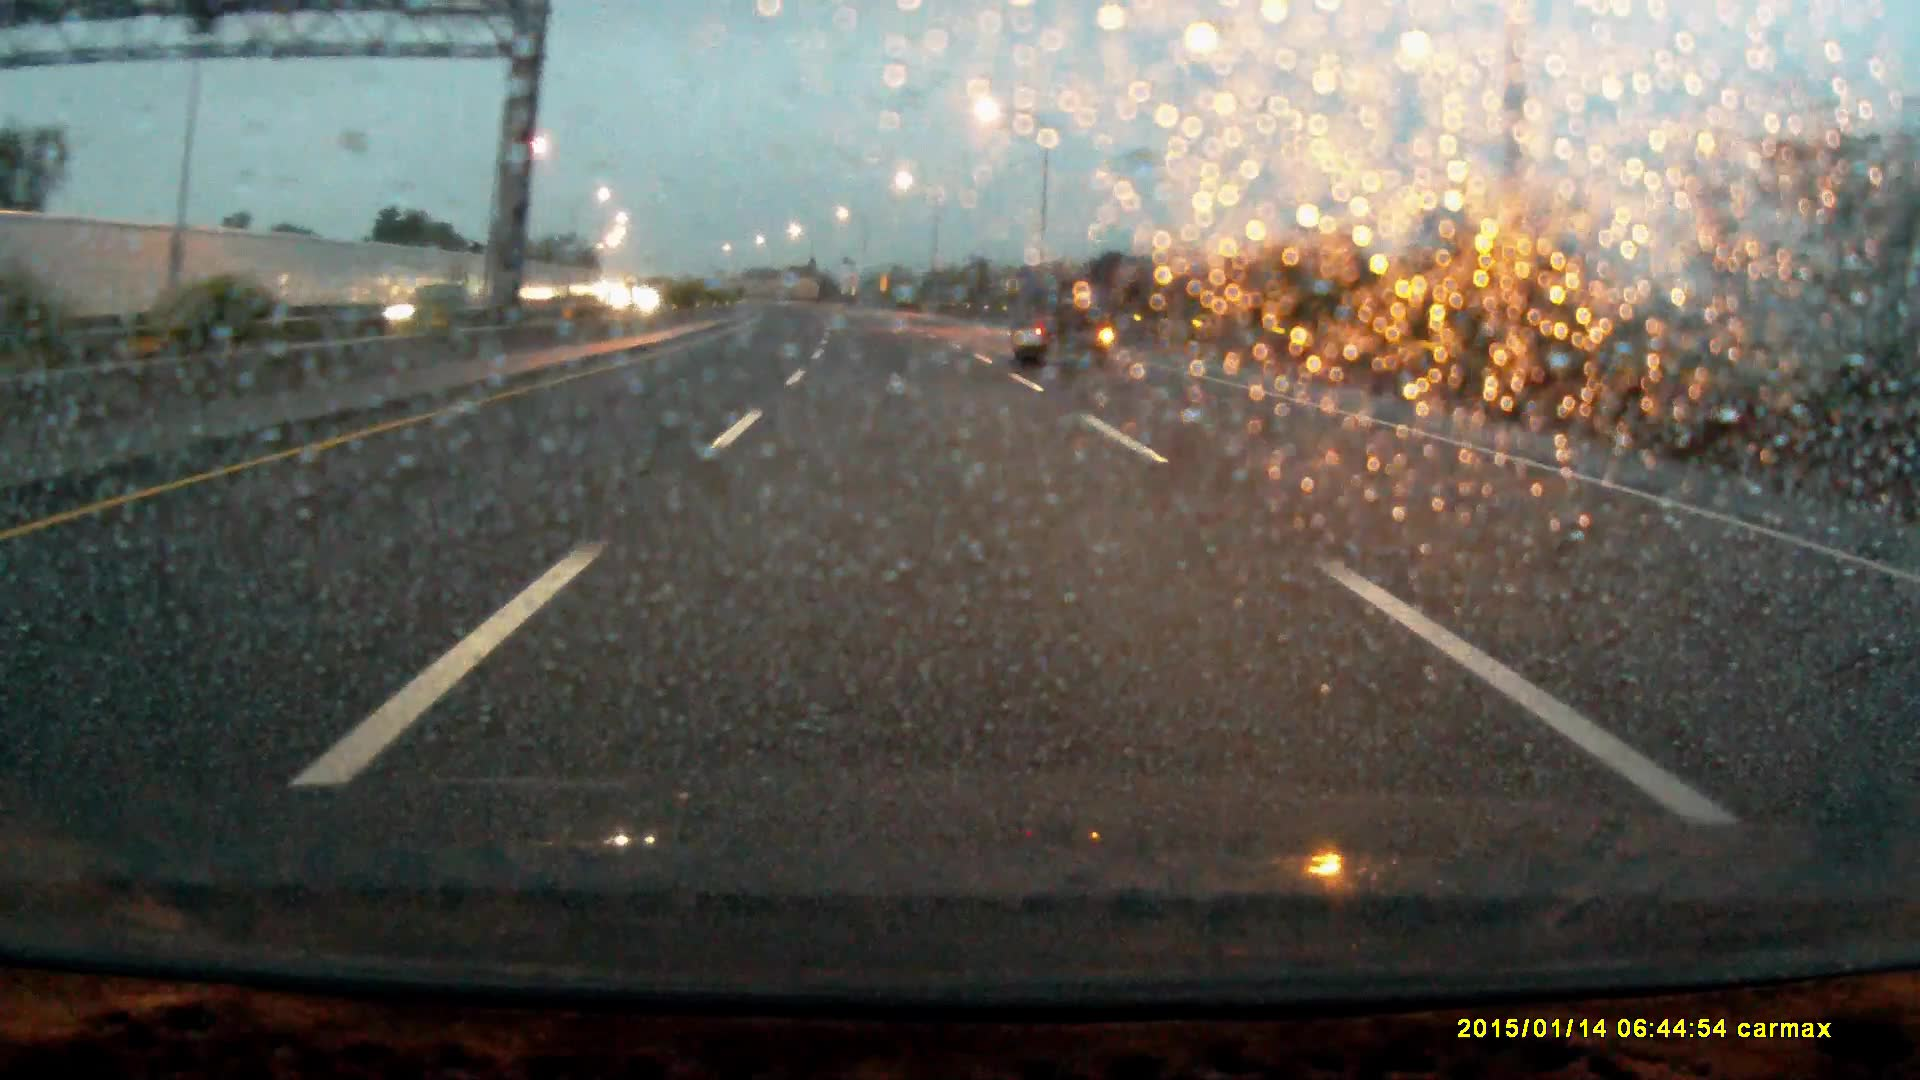vehicle: (1011, 276, 1108, 372), (390, 282, 483, 328), (611, 284, 673, 314)
